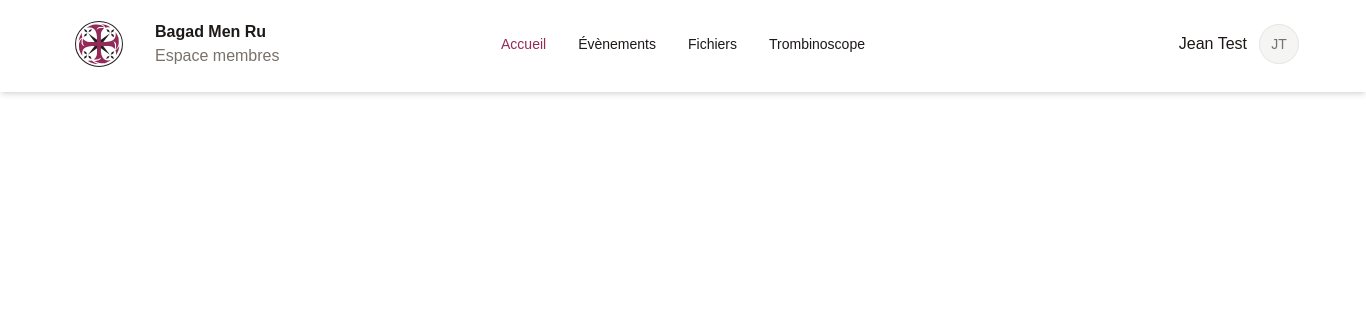
Test case: Navbar account menu › offers the Administration entry to view:admin holders
The image size is (1366, 327).
Click the button with aria-label "Comptes - " at (1239, 44), box [1171, 16, 1307, 72]
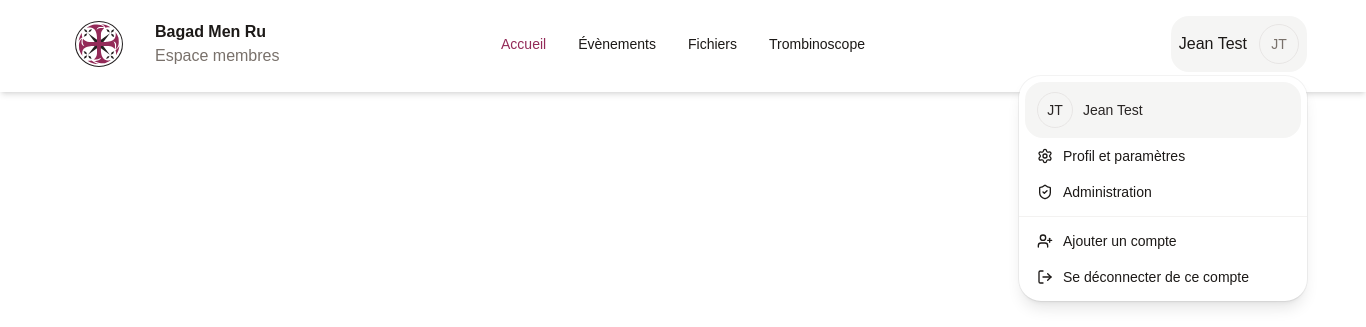
Expected: the menu item "Administration" is shown, [1037, 184, 1152, 200]
